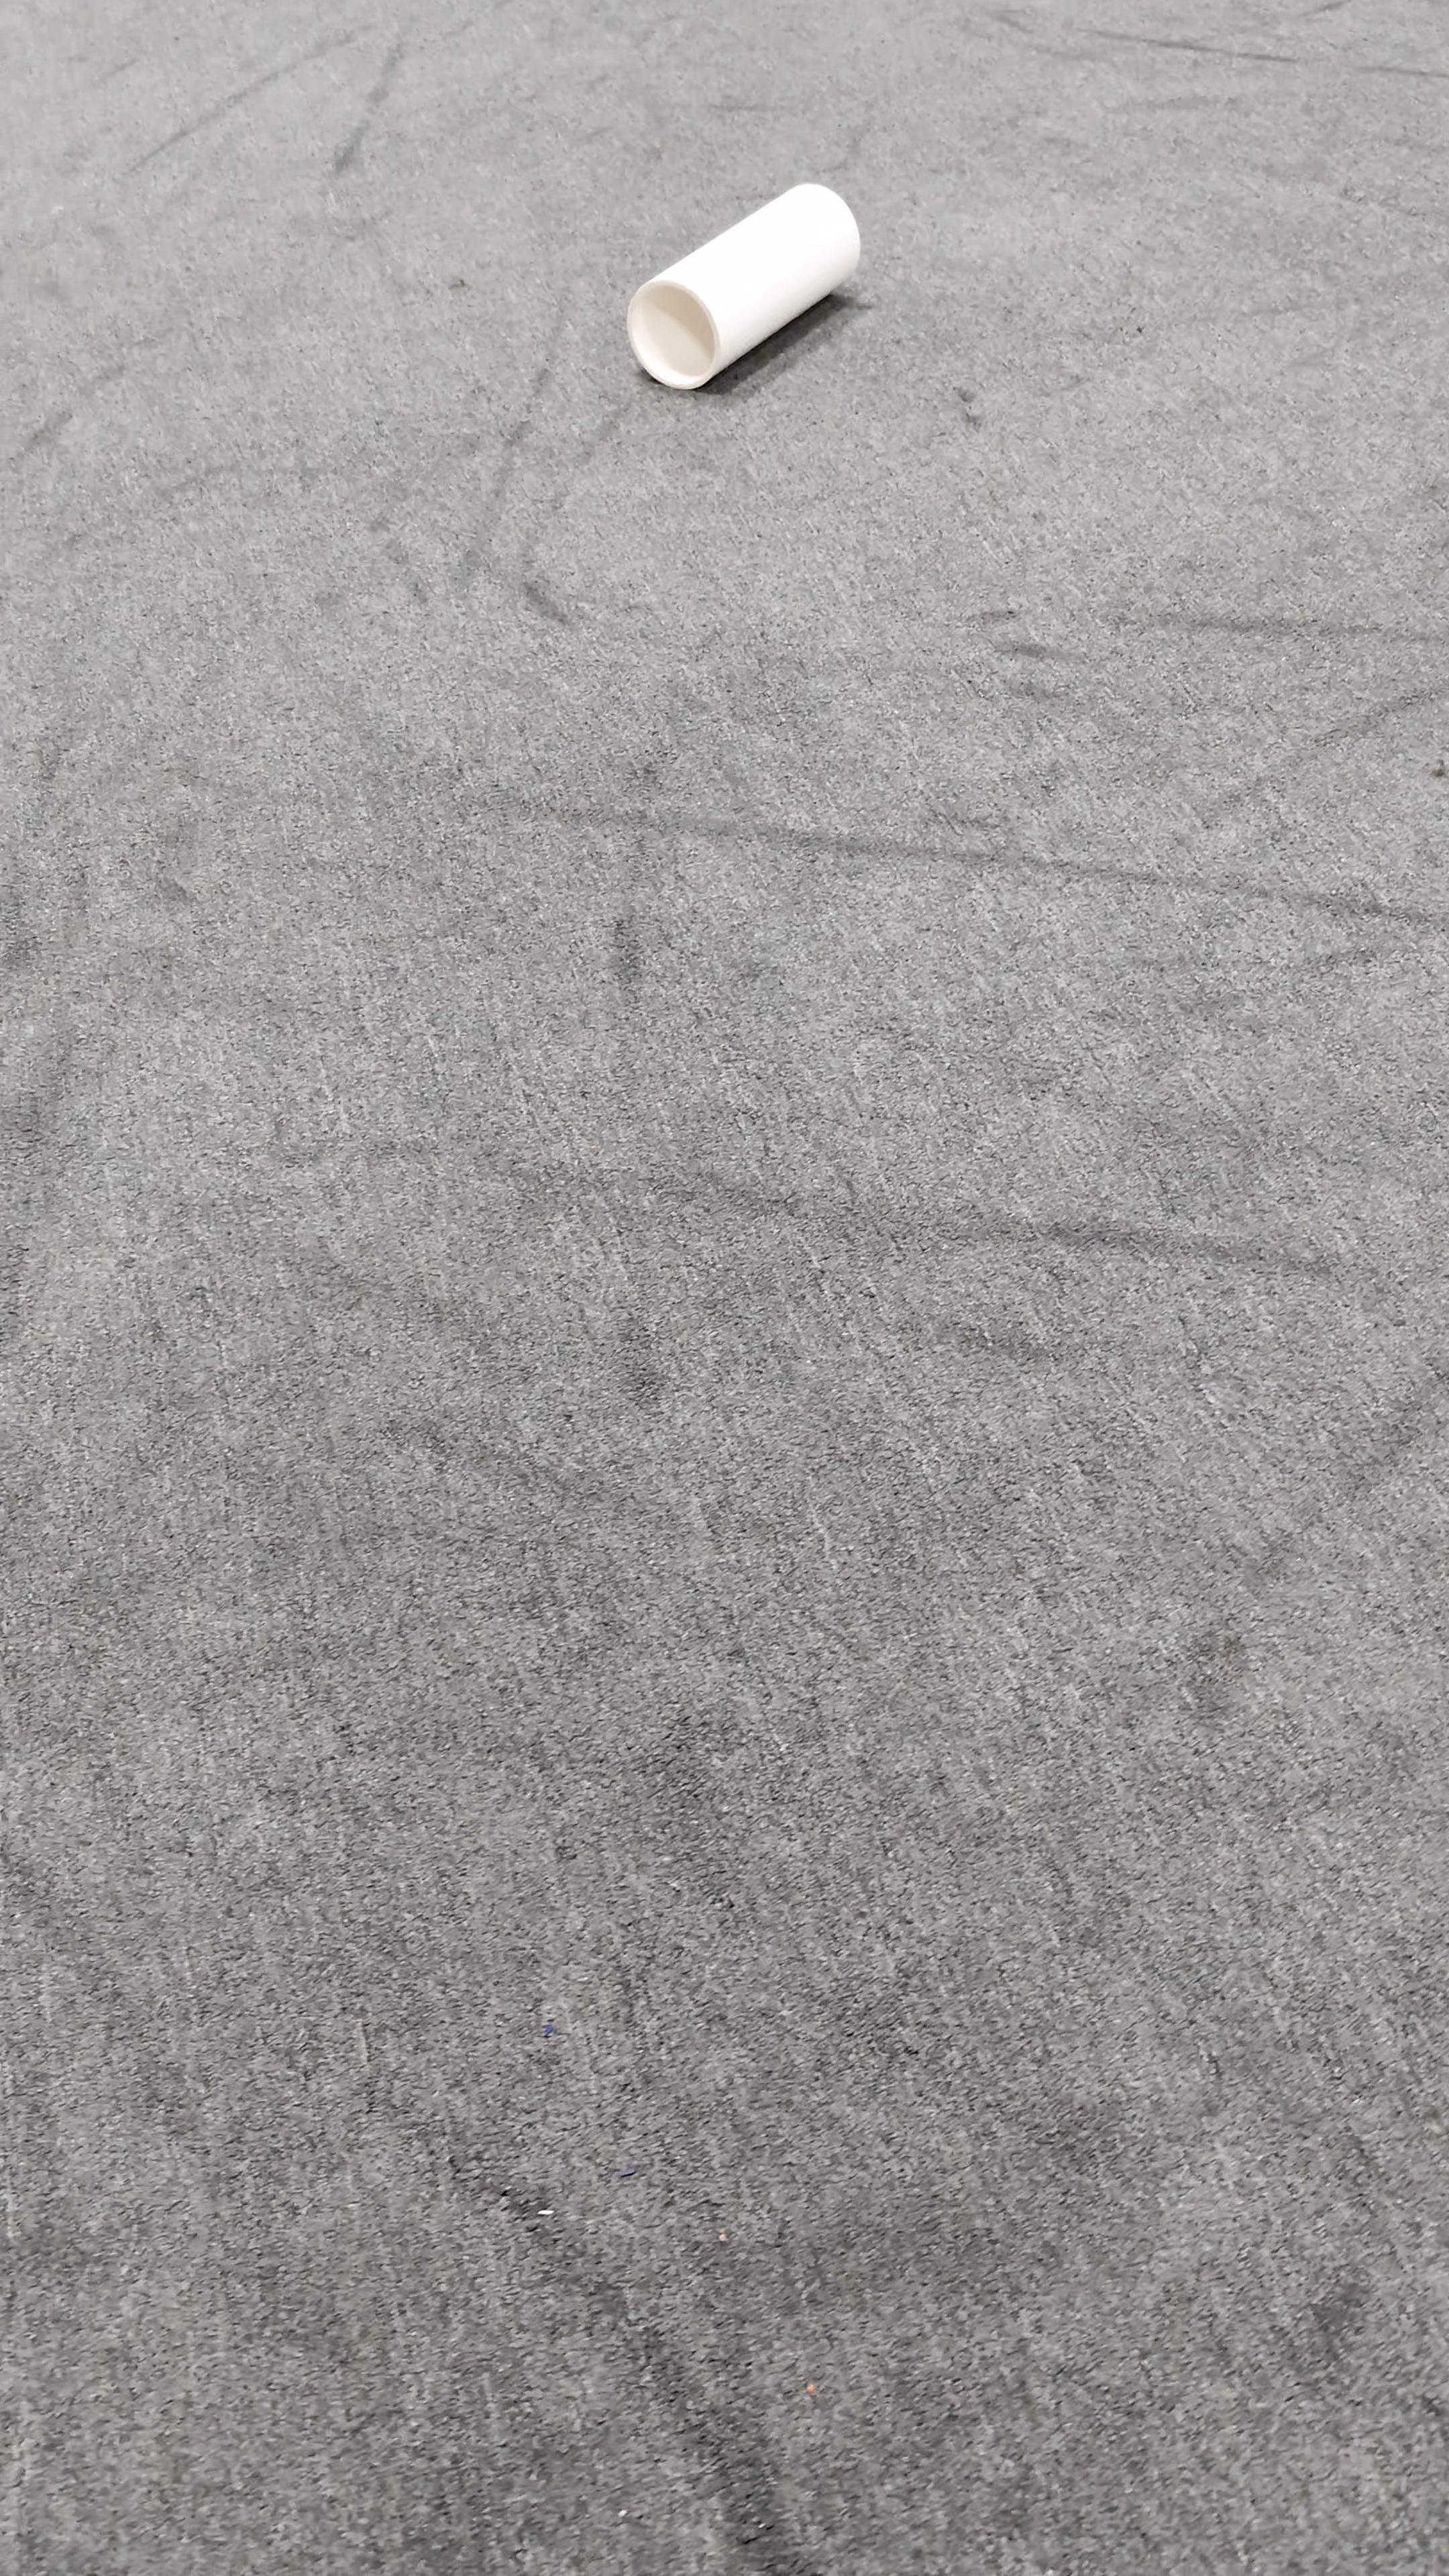coral: (625, 175, 863, 391)
